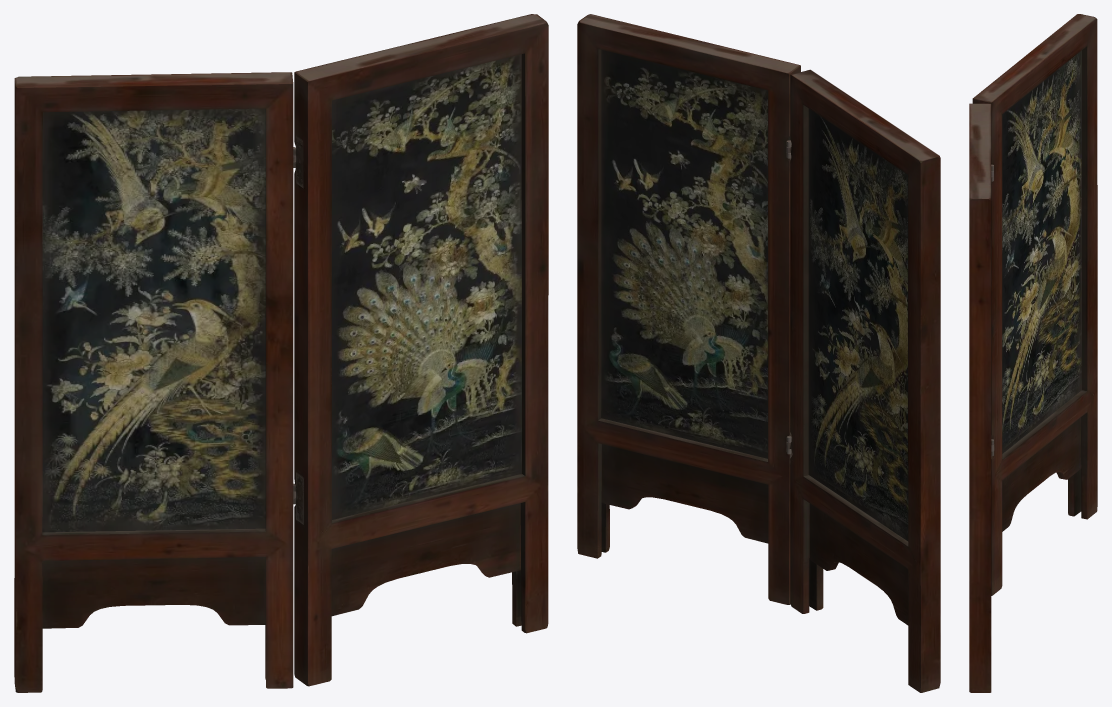
File: chinese_screen_panels.glb
3 renders of one model, left to right at view 1: azimuth 30°, elevation 25°; view 2: azimuth 150°, elevation 25°; view 3: azimuth 270°, elevation 25°, orthographic. The views are drawn at different scales.
Parts seen in each view (by area): view 1: chinese_screen_panels_a; view 2: chinese_screen_panels_a; view 3: chinese_screen_panels_a.
Boxes of the visible parts, x1,y1,x2,y2 form: chinese_screen_panels_a: (14, 14, 548, 692); chinese_screen_panels_a: (577, 14, 940, 692); chinese_screen_panels_a: (969, 14, 1097, 692).
Size of the model in its own units: 1.29 by 1.6 by 0.3769.
1 material, 1 textured.
